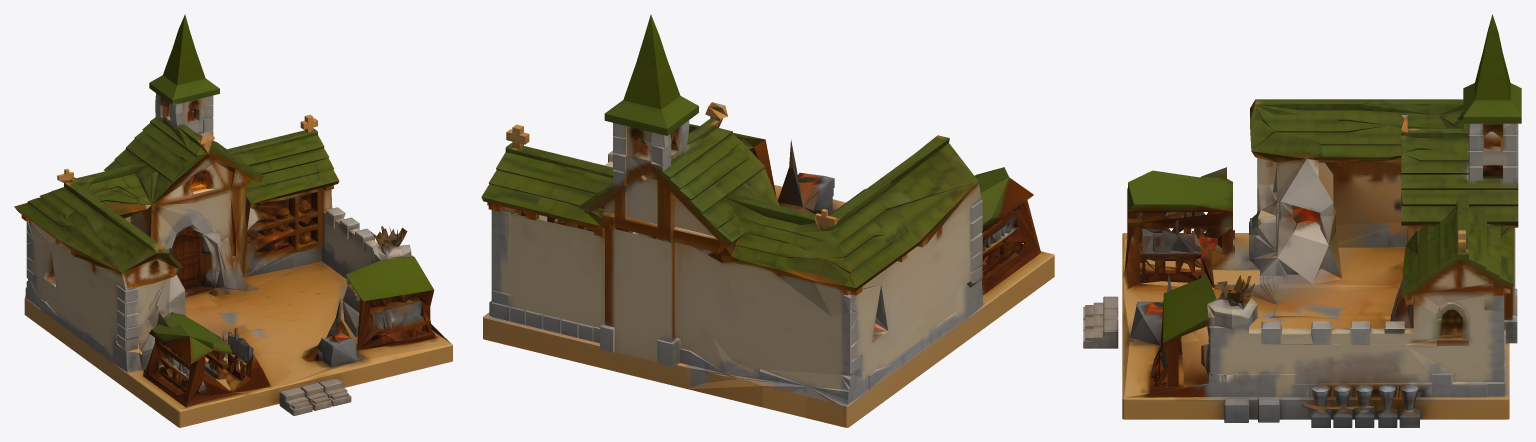
The model's file is military_factory.fbx.
3 views of the same model, side by side, from view 1: azimuth 30°, elevation 25°; view 2: azimuth 150°, elevation 25°; view 3: azimuth 270°, elevation 25° (orthographic). The views are drawn at different scales.
Parts seen in each view (by area): view 1: texture_pbr_v128; view 2: texture_pbr_v128; view 3: texture_pbr_v128.
Boxes of the visible parts, x1=… form: texture_pbr_v128: x1=14, y1=14, x2=452, y2=427; texture_pbr_v128: x1=481, y1=14, x2=1054, y2=427; texture_pbr_v128: x1=1083, y1=14, x2=1521, y2=427.
Size of the model in its own units: 186 by 159 by 190.
1 material, 1 textured.
